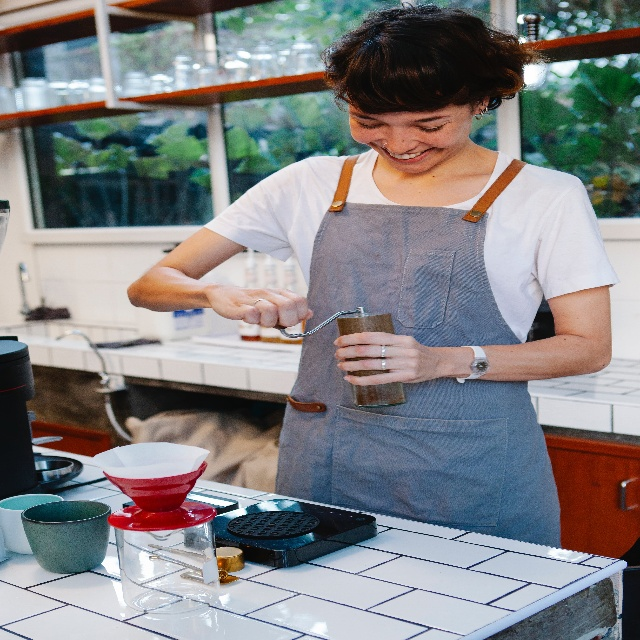Sin_guantes: (334, 330, 435, 386), (205, 283, 314, 328)
